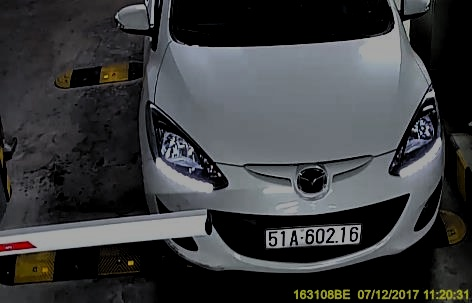plate: (261, 222, 365, 249)
